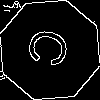C: (25, 25, 80, 74)
